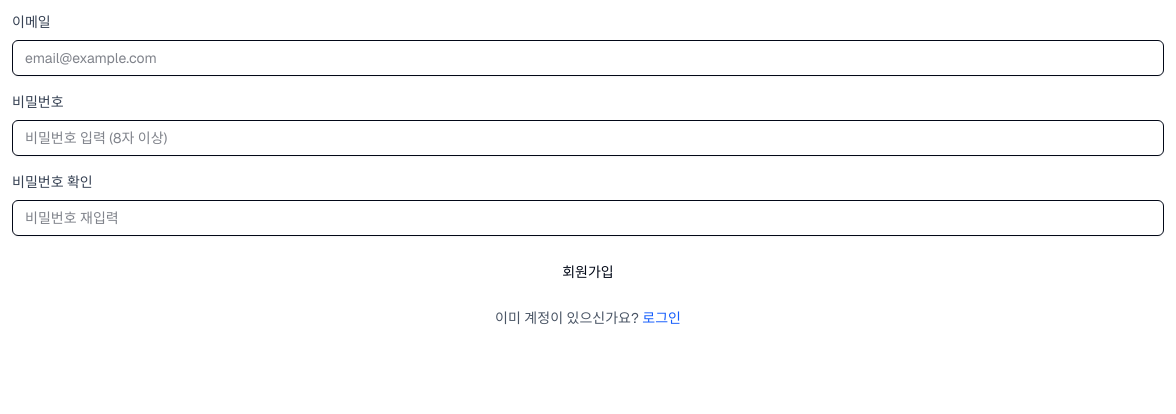
Test case: SignupForm › 비밀번호 불일치 실시간 오류 › 비밀번호와 확인이 다르면 오류 메시지를 표시한다
Type "password123" into the password field labelled "비밀번호". click: {"x": 588, "y": 138}
box: [12,120,1164,156]
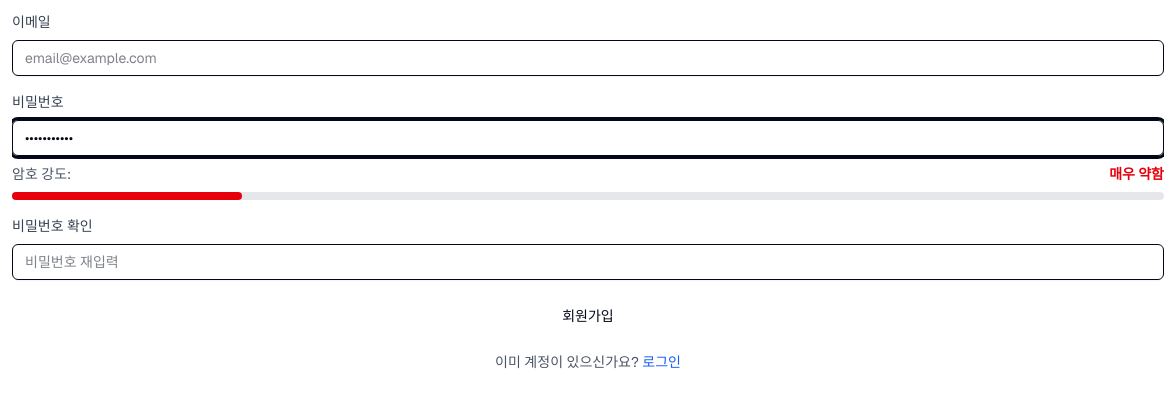
Type "different" into the password field labelled "비밀번호 확인". click: {"x": 588, "y": 262}
box: [12,244,1164,280]
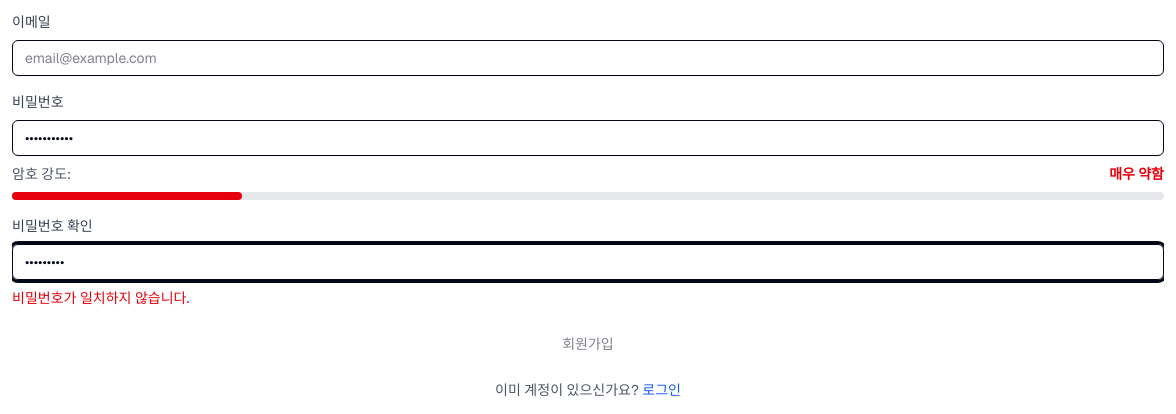
Result: the text "비밀번호가 일치하지 않습니다." is shown at [12,289,189,307]
